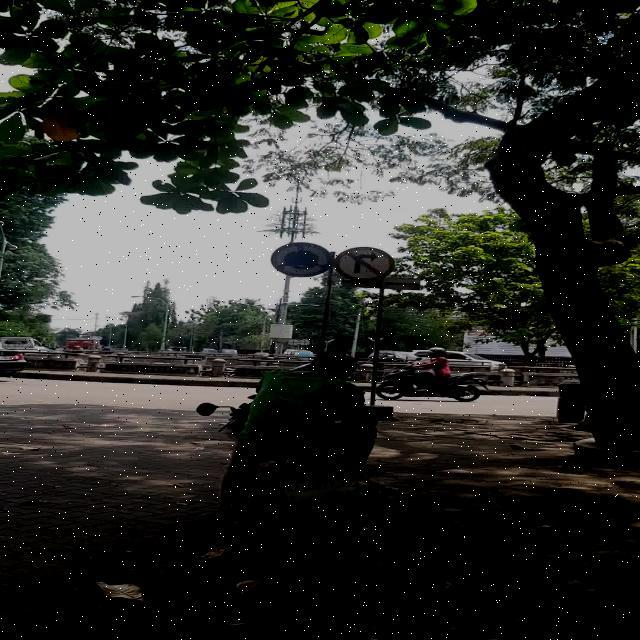Dilarang Belok Kanan: (334, 247, 394, 282)
